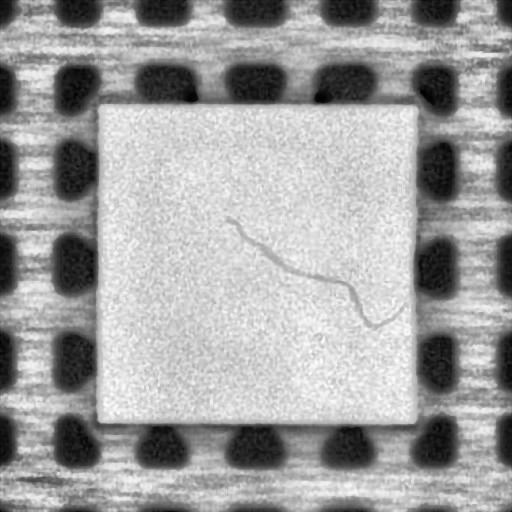DIE_CRACK: (224, 219, 406, 331)
